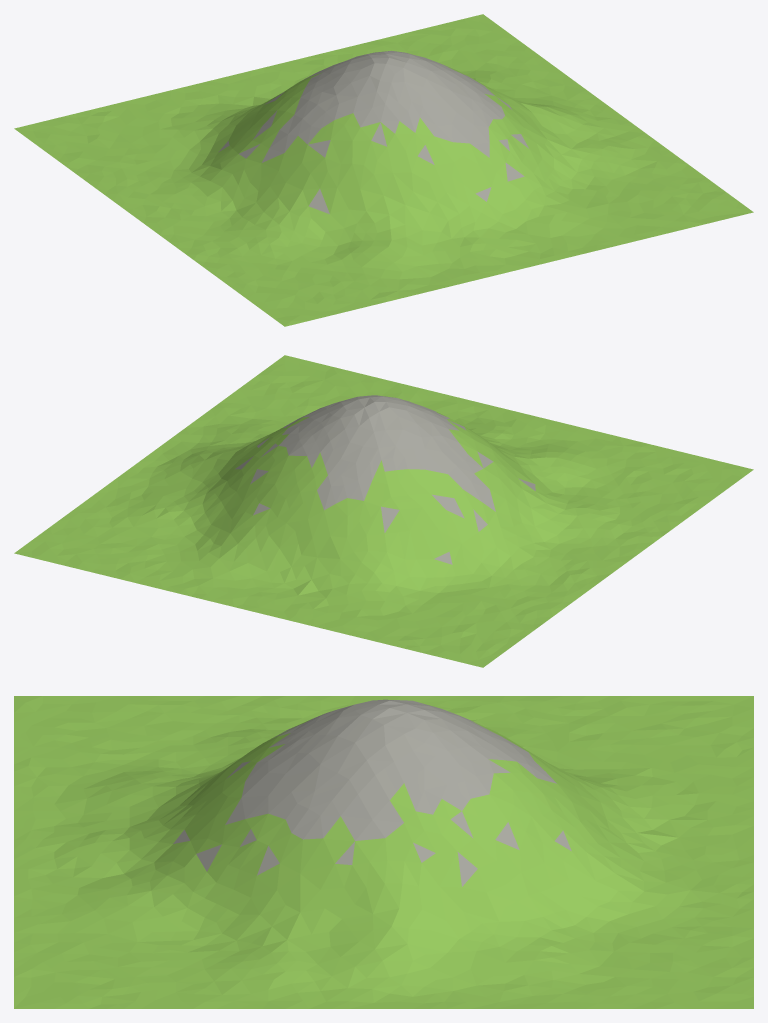
File: terrain_l_b_09.glb
3 renders of one model, top to bottom at view 1: azimuth 30°, elevation 25°; view 2: azimuth 150°, elevation 25°; view 3: azimuth 270°, elevation 25°, orthographic. The views are drawn at different scales.
Parts seen in each view (by area): view 1: CPT_Terrain_L_b_09; view 2: CPT_Terrain_L_b_09; view 3: CPT_Terrain_L_b_09.
Part boxes in pixels (x1,y1,x2,y2): CPT_Terrain_L_b_09: (14, 14, 753, 326); CPT_Terrain_L_b_09: (14, 355, 753, 667); CPT_Terrain_L_b_09: (14, 696, 753, 1008).
Bounding box in the file's own units: 100 × 22.35 × 100.
1 material, 1 textured.
